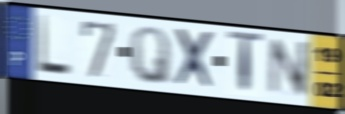7: (78, 19, 117, 80)
L: (36, 13, 73, 78)
N: (266, 37, 312, 99)
Q: (128, 24, 173, 88)
T: (226, 29, 265, 99)
X: (172, 26, 218, 93)
